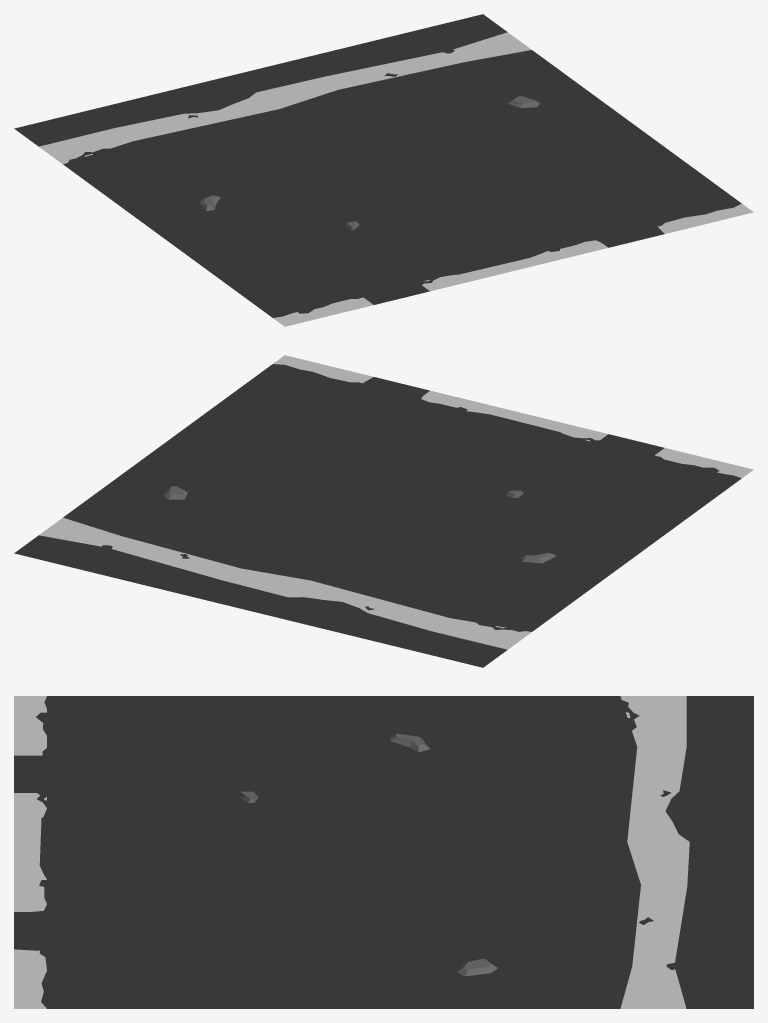
The model's file is Asphalt_13.FBX.
3 renders of one model, top to bottom at view 1: azimuth 30°, elevation 25°; view 2: azimuth 150°, elevation 25°; view 3: azimuth 270°, elevation 25°, orthographic. The views are drawn at different scales.
Parts seen in each view (by area): view 1: Asphalt_13; view 2: Asphalt_13; view 3: Asphalt_13.
Boxes of the visible parts, box(x1,y1,x2,y2) form: Asphalt_13: box(14, 14, 753, 326); Asphalt_13: box(14, 355, 753, 667); Asphalt_13: box(14, 696, 753, 1008).
Size of the model in its own units: 5 by 0.03 by 5.
